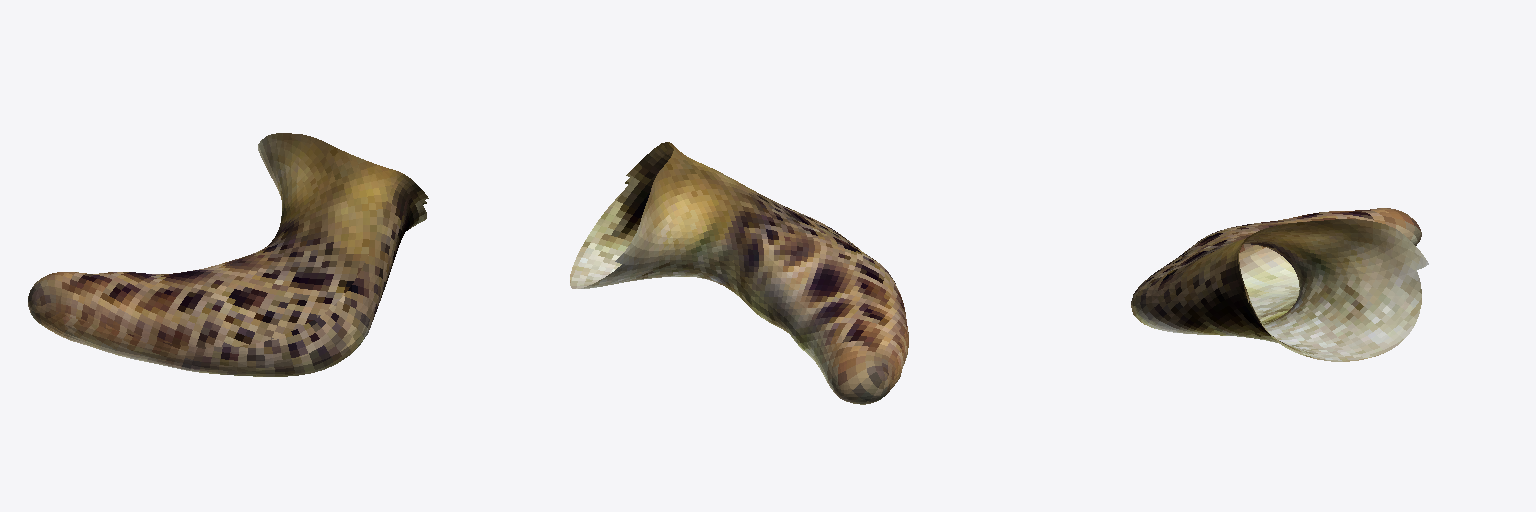
3 renders of one model, left to right at view 1: azimuth 30°, elevation 25°; view 2: azimuth 150°, elevation 25°; view 3: azimuth 270°, elevation 25°, orthographic.
Visible parts, largest first — view 1: aletaDerecha; view 2: aletaDerecha; view 3: aletaDerecha.
Boxes of the visible parts, <box> form: aletaDerecha: <box>28,133,428,376</box>; aletaDerecha: <box>570,142,908,404</box>; aletaDerecha: <box>1131,208,1428,361</box>.
Size of the model in its own units: 0.7956 by 0.3489 by 0.6039.
1 materials, 1 textured.